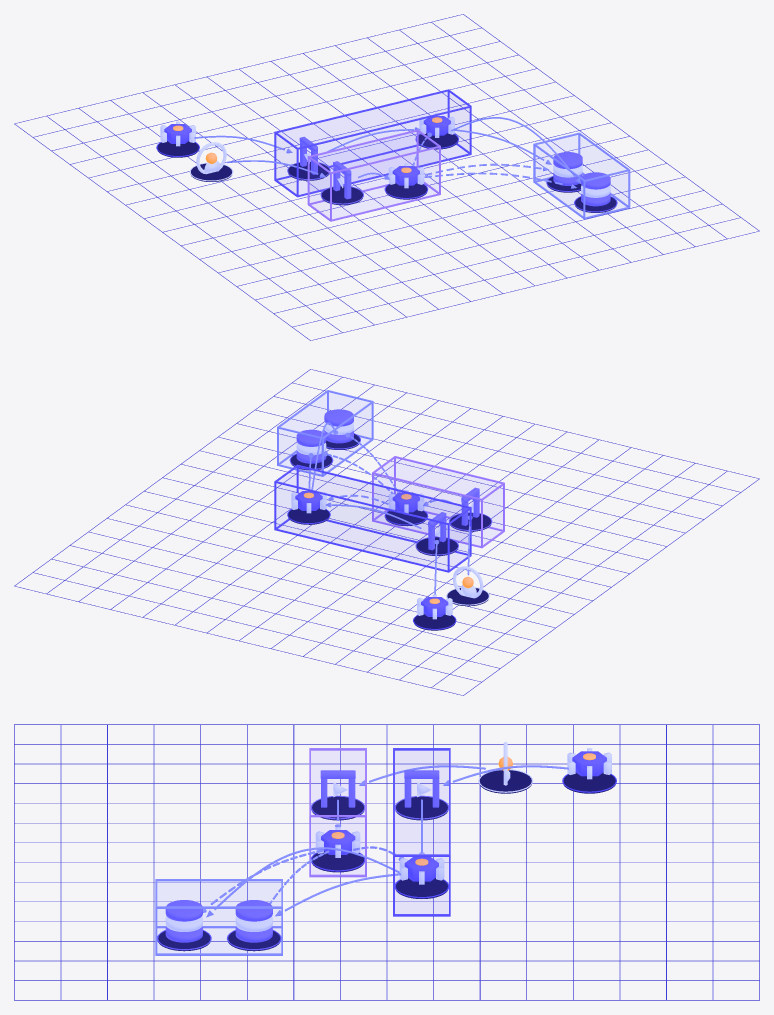
Rendered from loki-minio.glb.
The picture shows the model from 3 angles, top to bottom: view 1: azimuth 30°, elevation 25°; view 2: azimuth 150°, elevation 25°; view 3: azimuth 270°, elevation 25°; orthographic projection. The views are drawn at different scales.
Parts seen in each view (by area): view 1: floor, group_Loki_write_path, group_Loki_read_path, group_Storage; view 2: floor, group_Loki_write_path, group_Loki_read_path, group_Storage; view 3: floor, group_Storage, group_Loki_write_path, group_Loki_read_path, mesh_grafana_pad, mesh_dist_pad, mesh_agent_pad, mesh_ing_pad, mesh_querier_pad, mesh_qfe_pad, mesh_index_disc2, mesh_minio_chunks_disc2 (+6 smaller).
Part boxes in pixels (x1,y1,x2,y2): floor: (14, 14, 759, 340); group_Loki_write_path: (274, 89, 471, 197); group_Loki_read_path: (307, 129, 440, 221); group_Storage: (533, 132, 630, 219); floor: (14, 369, 759, 695); group_Loki_write_path: (274, 464, 471, 572); group_Loki_read_path: (372, 456, 504, 548); group_Storage: (277, 390, 373, 476); floor: (14, 724, 759, 1000); group_Storage: (155, 879, 282, 955); group_Loki_write_path: (393, 748, 450, 916); group_Loki_read_path: (309, 748, 366, 877); mesh_grafana_pad: (479, 770, 531, 793); mesh_dist_pad: (395, 796, 447, 820); mesh_agent_pad: (563, 772, 615, 793); mesh_ing_pad: (396, 878, 447, 898); mesh_querier_pad: (312, 851, 364, 872); mesh_qfe_pad: (312, 796, 364, 820); mesh_index_disc2: (165, 900, 202, 921); mesh_minio_chunks_disc2: (235, 900, 272, 921).
Bounding box in the file's own units: 28.03 × 3.51 × 32.03.
